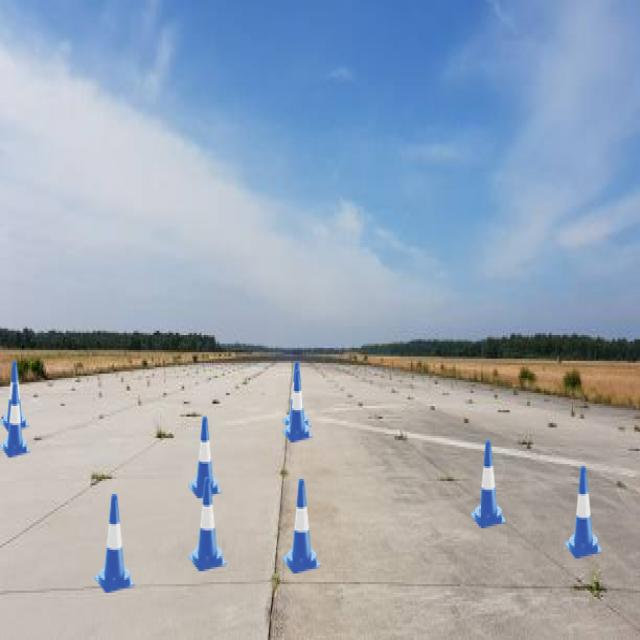blue_cone: (94, 494, 135, 593), (188, 477, 227, 571), (282, 479, 321, 573), (565, 466, 602, 558), (471, 441, 506, 528), (188, 417, 222, 498), (0, 382, 30, 457), (282, 370, 313, 442), (282, 361, 312, 432), (0, 360, 29, 431)
